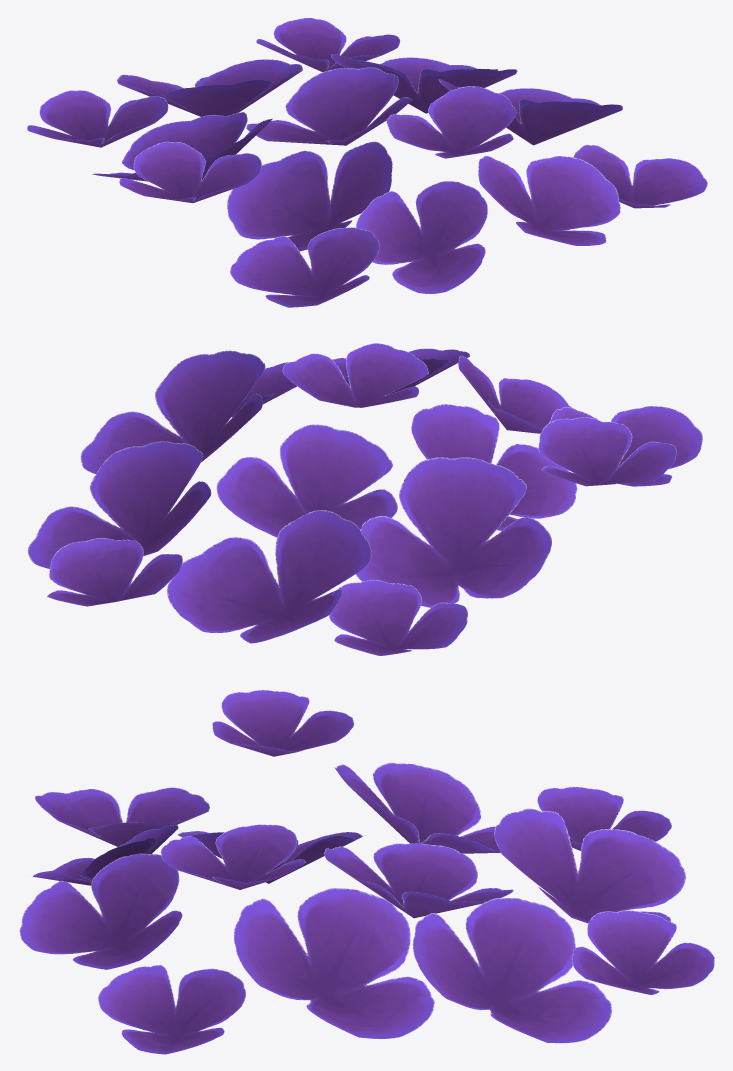
The model's file is Plant_7_Big.gltf.
The picture shows the model from 3 angles, top to bottom: view 1: azimuth 30°, elevation 25°; view 2: azimuth 150°, elevation 25°; view 3: azimuth 270°, elevation 25°; orthographic projection. The views are drawn at different scales.
Parts seen in each view (by area): view 1: Plant_7_Big; view 2: Plant_7_Big; view 3: Plant_7_Big.
Boxes of the visible parts, x1,y1,x2,y2 form: Plant_7_Big: [27, 18, 707, 307]; Plant_7_Big: [27, 343, 702, 655]; Plant_7_Big: [19, 690, 714, 1054].
Bounding box in the file's own units: 1.31 × 0.2534 × 1.36.
Materials: 1 (1 with a texture image).
